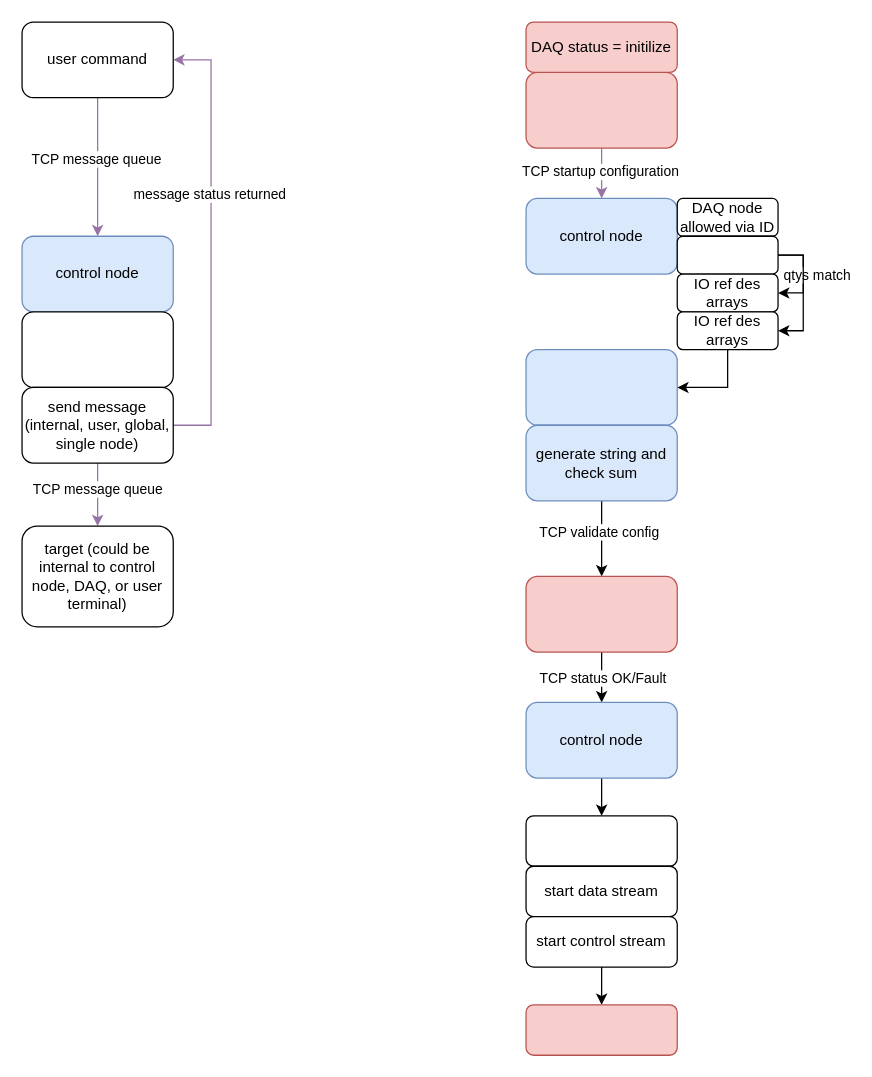
This 872x1077 diagram has some shape labels left out. Each missing label, with the centre of its shape:
DAQ device start up: point (601, 109)
DAQ status = running: point (601, 1029)
generate + compare string and check sum: point (601, 613)
interperate message (global, individual): point (97, 349)
IO channel #s: point (727, 254)
start message TCP: point (601, 840)
updates cluster of DAQ configs: point (601, 386)
